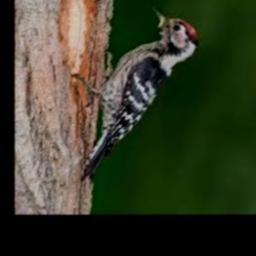Woodpecker: (72, 7, 199, 179)
